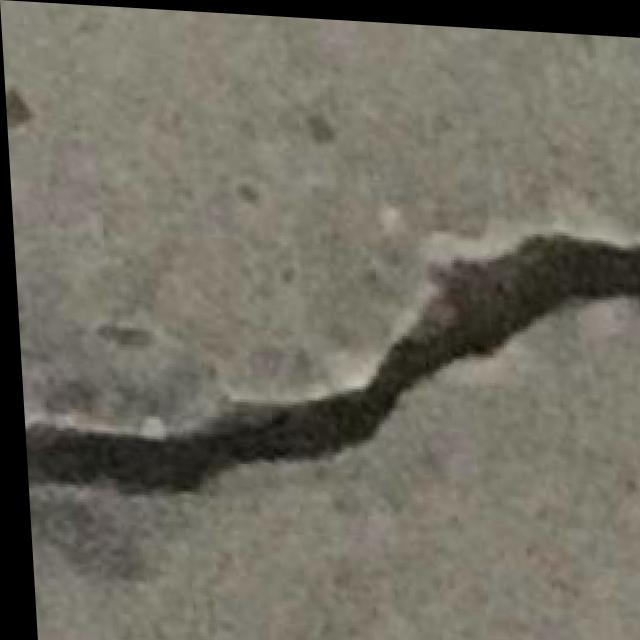Crack: (12, 201, 640, 523)
